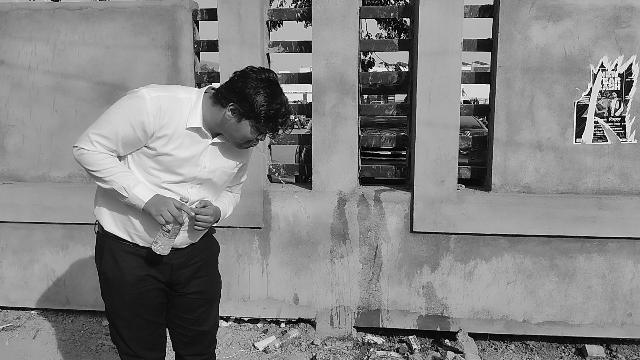spit: (196, 56, 331, 253)
